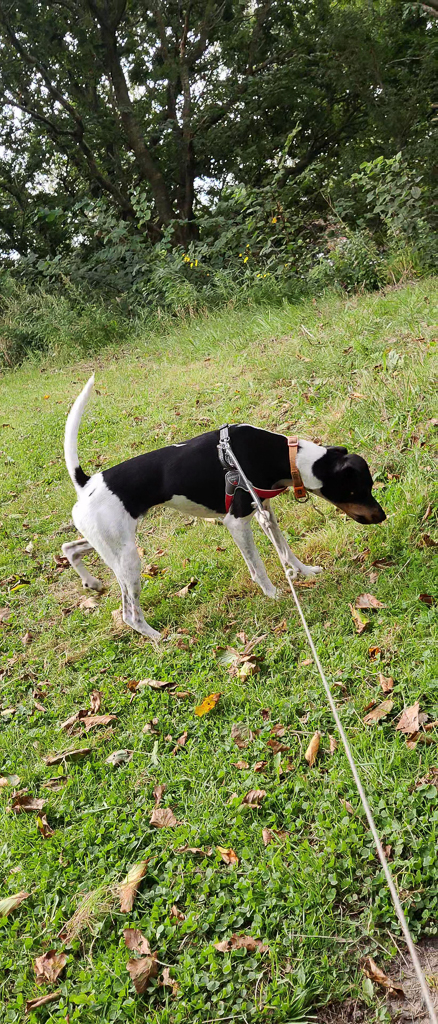Dog: (44, 359, 406, 653)
